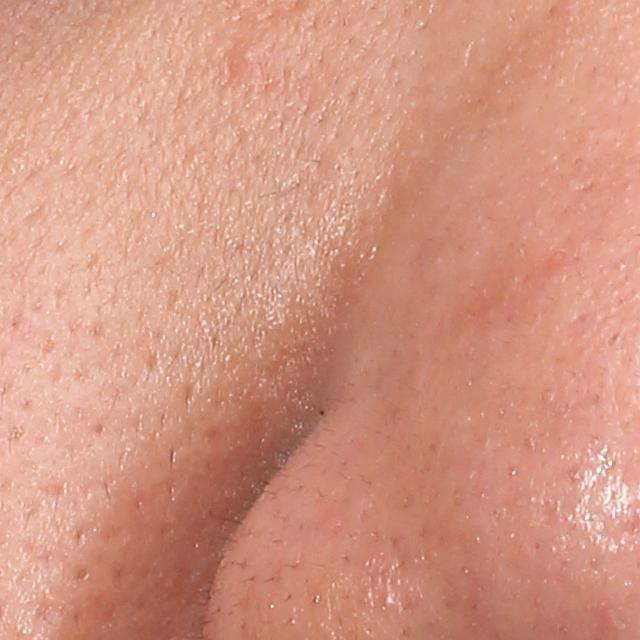comedo: (75, 567, 93, 582)
